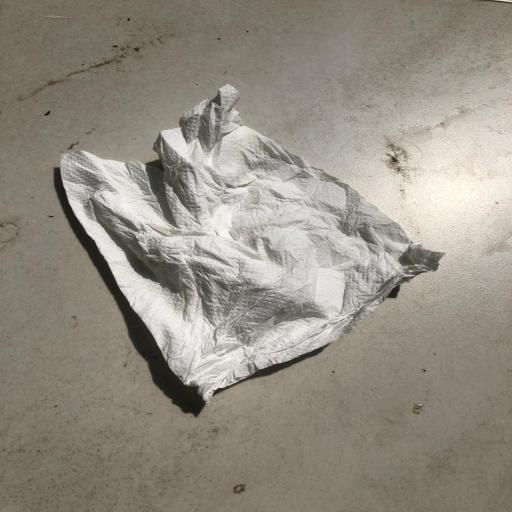waste: (37, 69, 461, 419)
